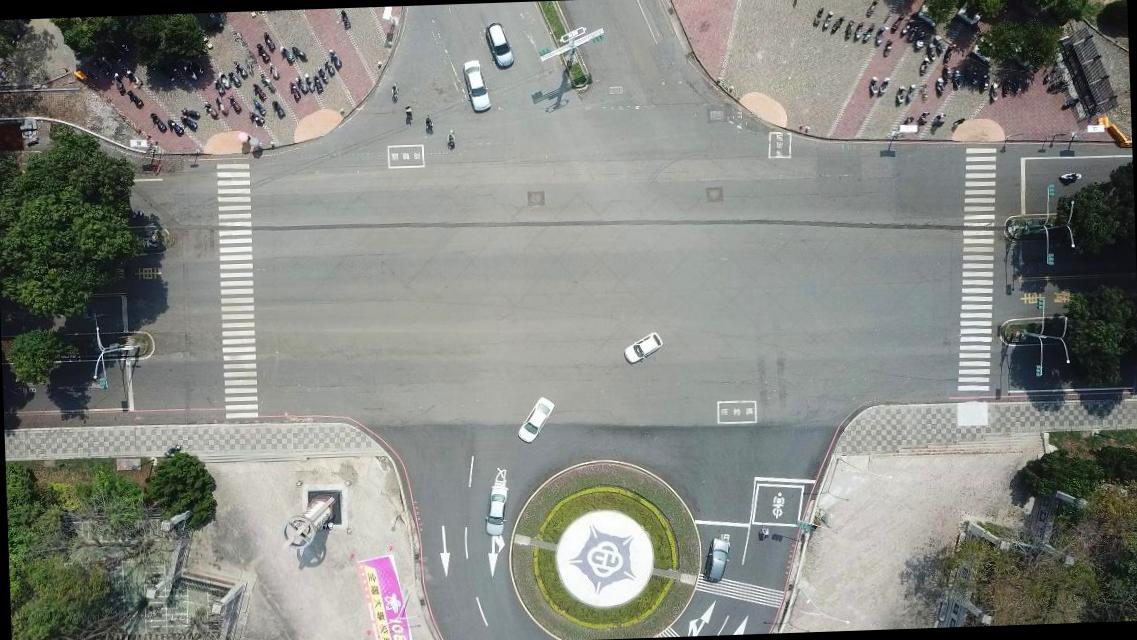vehicle: (514, 396, 558, 444), (459, 56, 492, 115), (484, 20, 520, 68), (482, 483, 512, 536), (702, 536, 732, 584), (622, 331, 664, 365)
